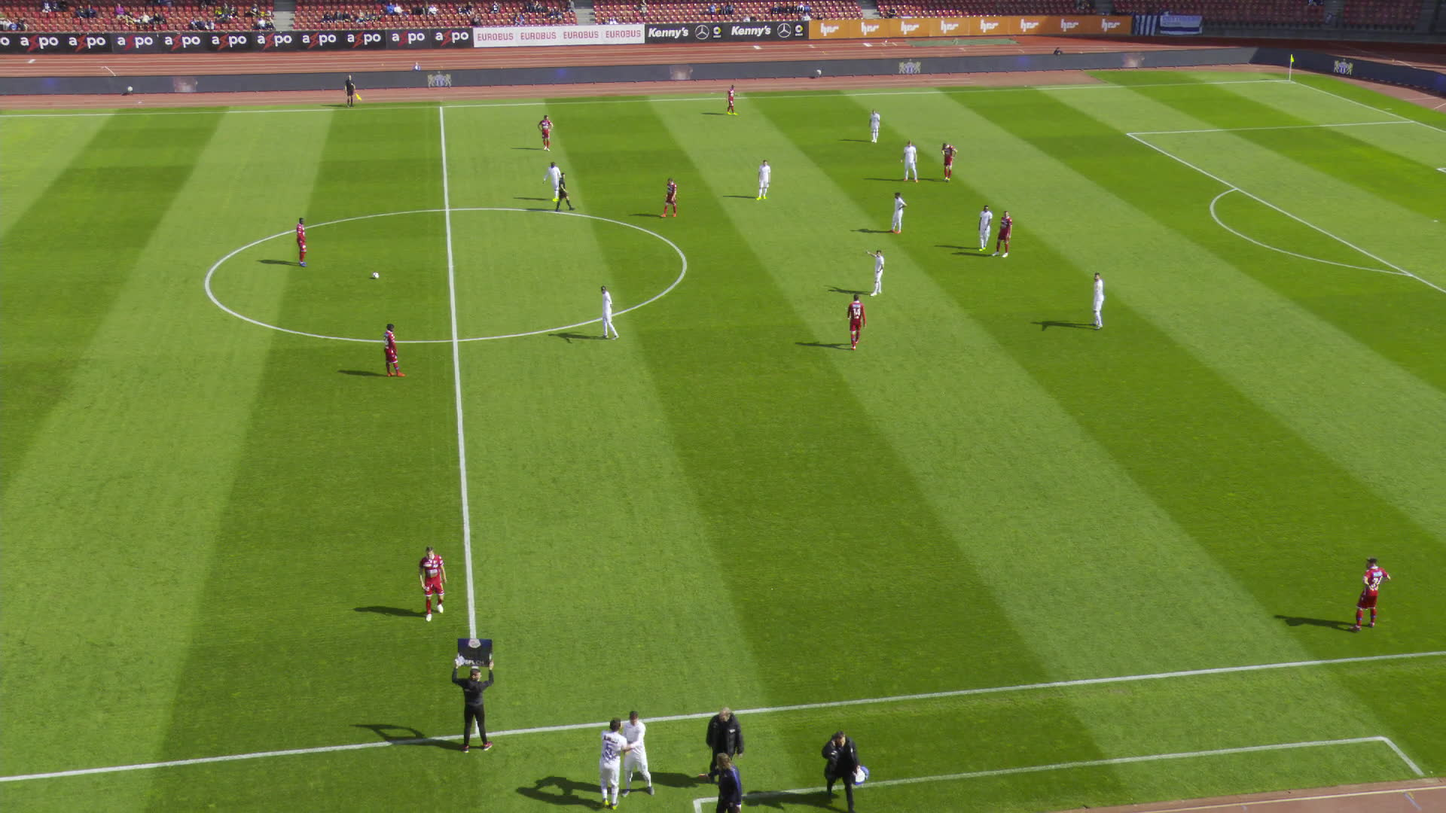ball: (371, 271, 379, 279)
player: (590, 717, 633, 811), (621, 709, 660, 797), (1347, 555, 1389, 634), (418, 545, 449, 620), (381, 318, 406, 379), (595, 284, 618, 341), (843, 292, 866, 349), (862, 247, 886, 298), (1088, 271, 1108, 332), (993, 209, 1015, 258), (885, 192, 908, 236), (293, 215, 311, 269), (541, 160, 562, 203), (938, 139, 958, 184), (660, 176, 680, 219), (900, 140, 919, 185), (975, 204, 992, 251), (754, 159, 773, 200), (536, 113, 555, 153), (866, 108, 881, 144), (724, 84, 739, 117)
referee: (551, 168, 572, 217), (342, 73, 361, 112)
